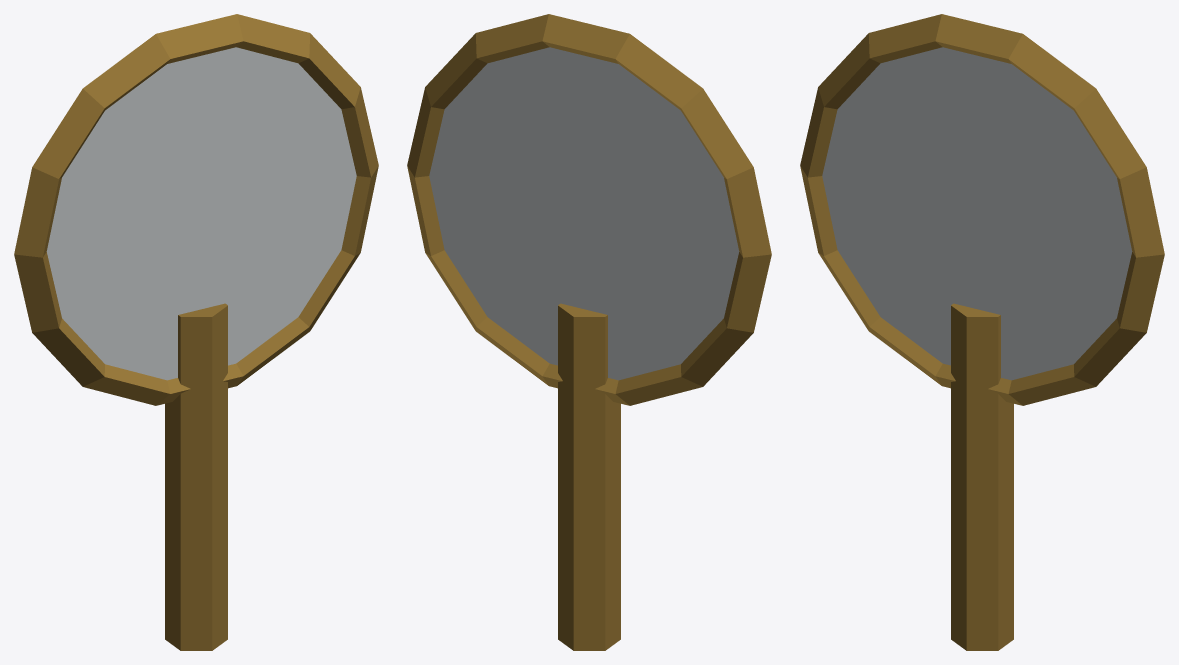
File: mirror.glb
3 renders of one model, left to right at view 1: azimuth 30°, elevation 25°; view 2: azimuth 150°, elevation 25°; view 3: azimuth 330°, elevation 25°, orthographic.
Visible parts, largest first — view 1: m; view 2: m; view 3: m.
Boxes of the visible parts, x1,y1,x2,y2 form: m: (14, 14, 378, 650); m: (407, 14, 771, 650); m: (800, 14, 1164, 650).
Bounding box in the file's own units: 0.0744 × 0.12 × 0.0112.
